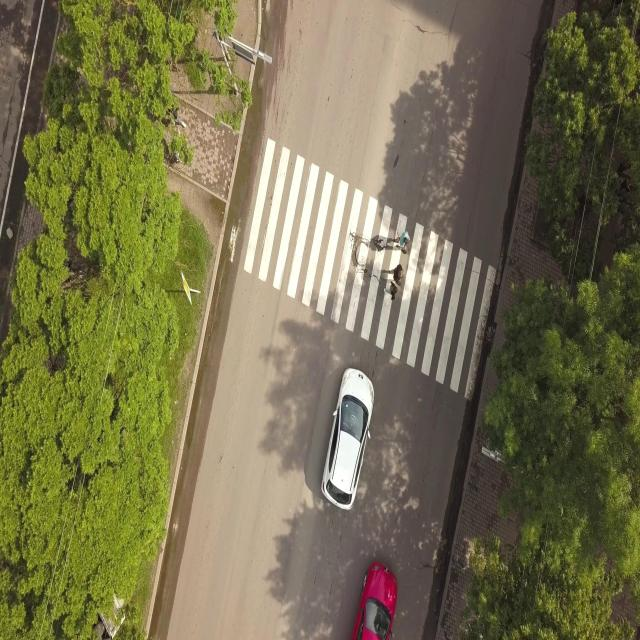Car: (321, 368, 378, 514), (351, 562, 403, 640)
